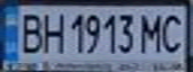1: (100, 11, 121, 53), (66, 10, 84, 54)
3: (115, 10, 139, 54)
9: (81, 10, 103, 54)
B: (12, 9, 48, 54)
C: (157, 10, 190, 53)
H: (36, 9, 66, 54)
M: (136, 9, 166, 54)
